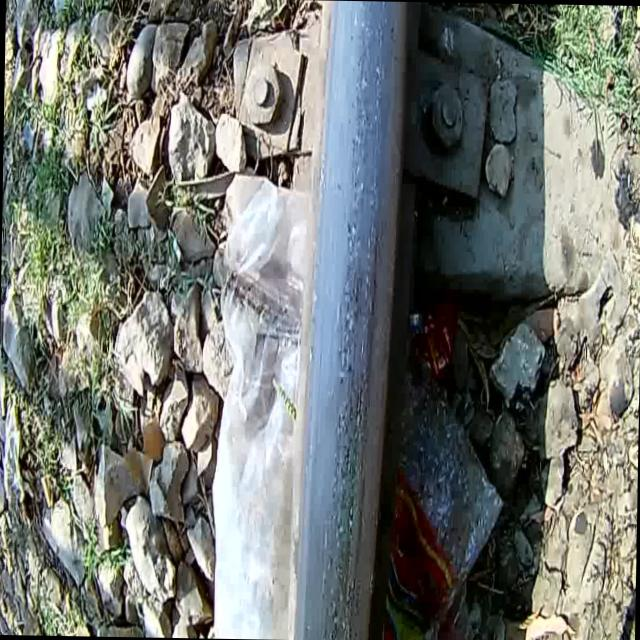Flakings: (316, 0, 393, 640)
